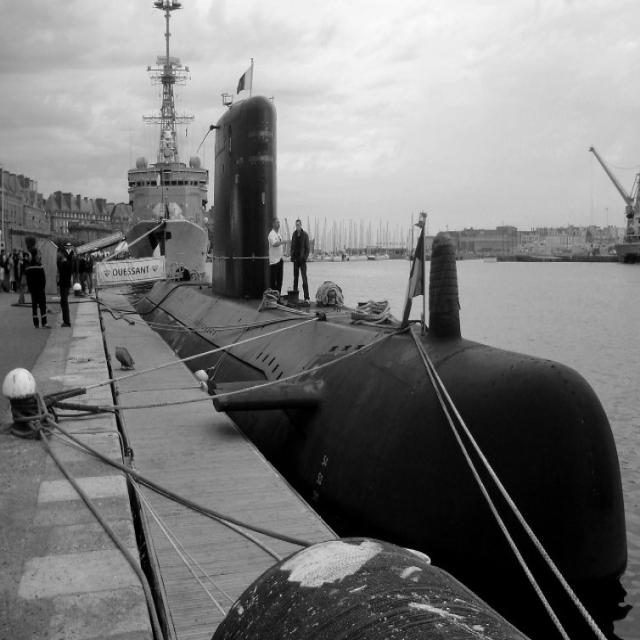submarine: (136, 97, 627, 582)
